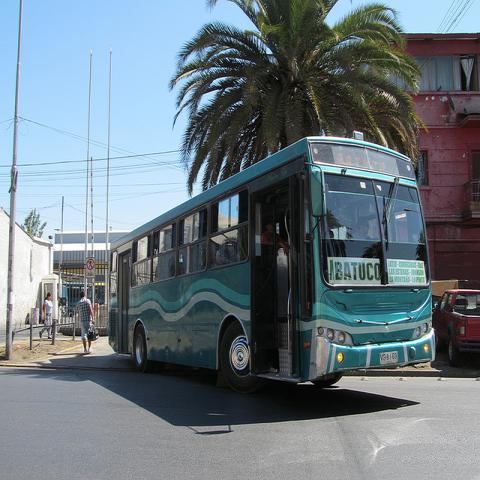bus: (106, 131, 436, 394)
truck: (432, 291, 479, 366)
